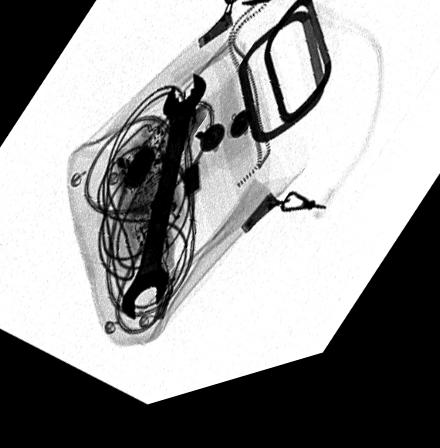Wrench: (117, 81, 208, 330)
